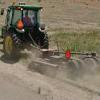Tractor: (5, 2, 63, 70)
